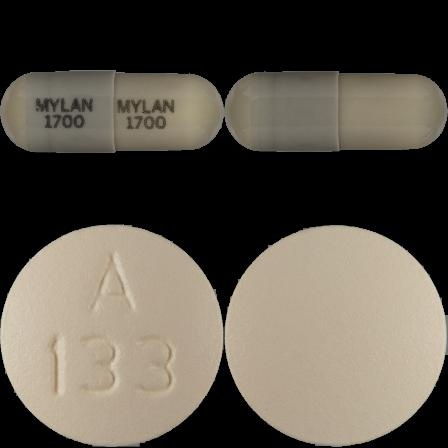0615-7655: (0, 0, 224, 224)
